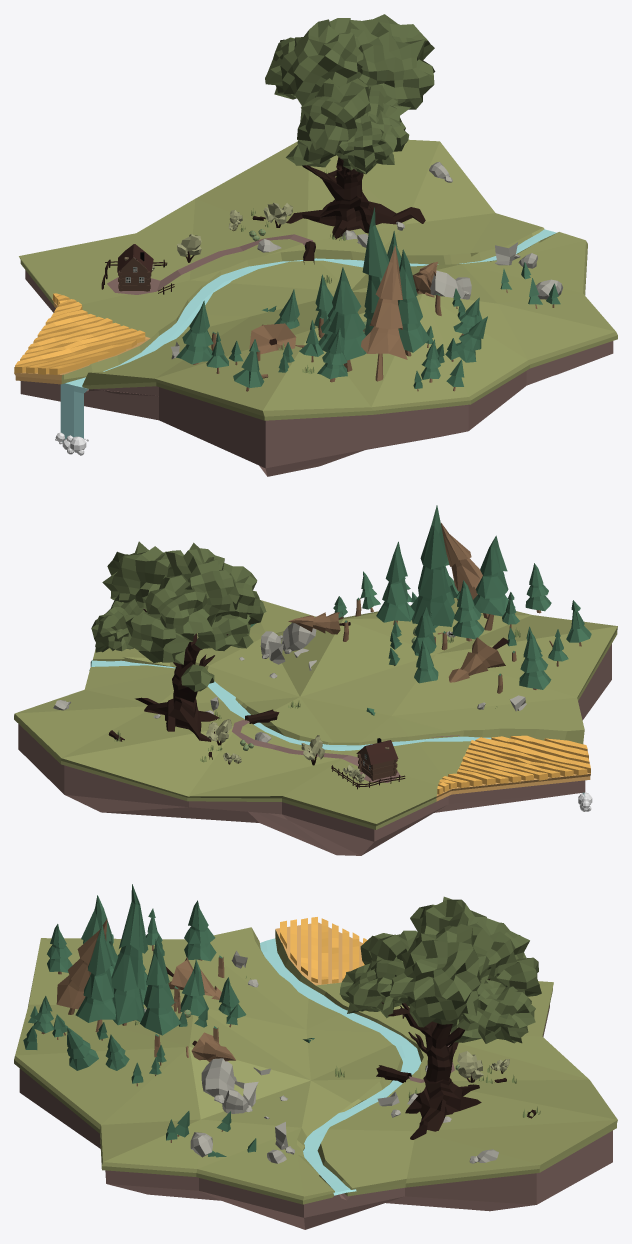
Rendered from Pasaulis1_testas5.glb.
3 views of the same model, one above another, from view 1: azimuth 30°, elevation 25°; view 2: azimuth 150°, elevation 25°; view 3: azimuth 270°, elevation 25° (orthographic). The views are drawn at different scales.
Parts seen in each view (by area): view 1: Ground grass, earth, Cube.021, Cube.001, Cube.004, RIVER, Oak, Cube.009, Spruce.008, Cube.010, Spruce.005, Spruce.007 (+12 smaller); view 2: Ground grass, earth, Cube.021, Cube.004, Cube, Cube.001, Spruce.013, Oak, Spruce.005, Cube.008, RIVER, Cube.006 (+16 smaller); view 3: Ground grass, earth, Cube.001, Oak, RIVER, Cube.006, Spruce.013, Cube.021, Spruce.007, Cube, Spruce.004, Cube.005 (+18 smaller).
Boxes of the visible parts, x1=… form: Ground grass: x1=14, y1=139, x2=617, y2=420; earth: x1=20, y1=270, x2=613, y2=476; Cube.021: x1=14, y1=293, x2=145, y2=374; Cube.001: x1=349, y1=14, x2=435, y2=109; Cube.004: x1=280, y1=18, x2=363, y2=106; RIVER: x1=60, y1=229, x2=556, y2=441; Oak: x1=286, y1=157, x2=425, y2=239; Cube.009: x1=301, y1=78, x2=370, y2=154; Spruce.008: x1=361, y1=245, x2=407, y2=381; Cube.010: x1=335, y1=110, x2=396, y2=174; Spruce.005: x1=322, y1=267, x2=366, y2=371; Spruce.007: x1=398, y1=249, x2=429, y2=356; Ground grass: x1=14, y1=598, x2=617, y2=829; earth: x1=18, y1=644, x2=611, y2=855; Cube.021: x1=437, y1=735, x2=590, y2=794; Cube.004: x1=165, y1=542, x2=239, y2=626; Cube: x1=142, y1=575, x2=212, y2=641; Cube.001: x1=102, y1=541, x2=183, y2=609; Spruce.013: x1=410, y1=505, x2=454, y2=626; Oak: x1=135, y1=609, x2=228, y2=741; Spruce.005: x1=473, y1=535, x2=515, y2=630; Cube.008: x1=125, y1=612, x2=189, y2=662; RIVER: x1=89, y1=660, x2=584, y2=795; Cube.006: x1=91, y1=599, x2=146, y2=652; Ground grass: x1=14, y1=922, x2=617, y2=1204; earth: x1=19, y1=938, x2=612, y2=1229; Cube.001: x1=389, y1=924, x2=489, y2=1027; Oak: x1=381, y1=978, x2=489, y2=1139; RIVER: x1=260, y1=938, x2=421, y2=1195; Cube.006: x1=456, y1=980, x2=535, y2=1043; Spruce.013: x1=111, y1=884, x2=148, y2=1025; Cube.021: x1=280, y1=917, x2=367, y2=984; Spruce.007: x1=75, y1=924, x2=115, y2=1032; Cube: x1=469, y1=918, x2=529, y2=983; Spruce.004: x1=140, y1=939, x2=181, y2=1035; Cube.005: x1=348, y1=959, x2=409, y2=1018.
Bounding box in the file's own units: 191 × 107 × 178.
20 materials, 3 textured.
